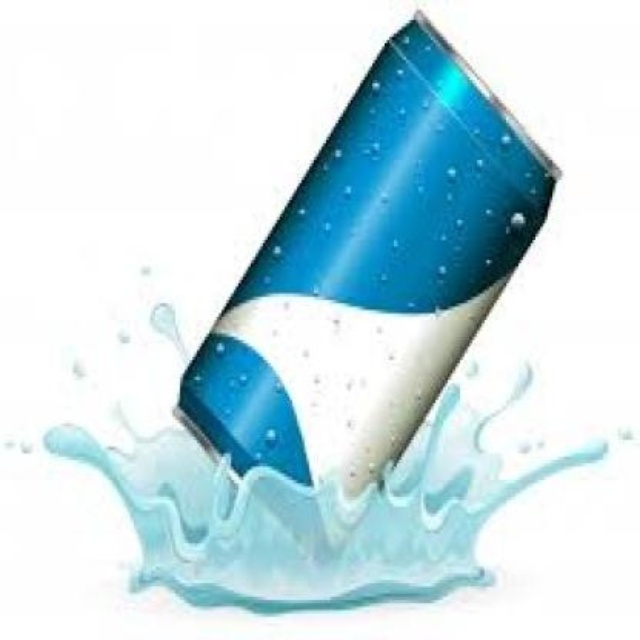trash: (178, 14, 555, 495)
